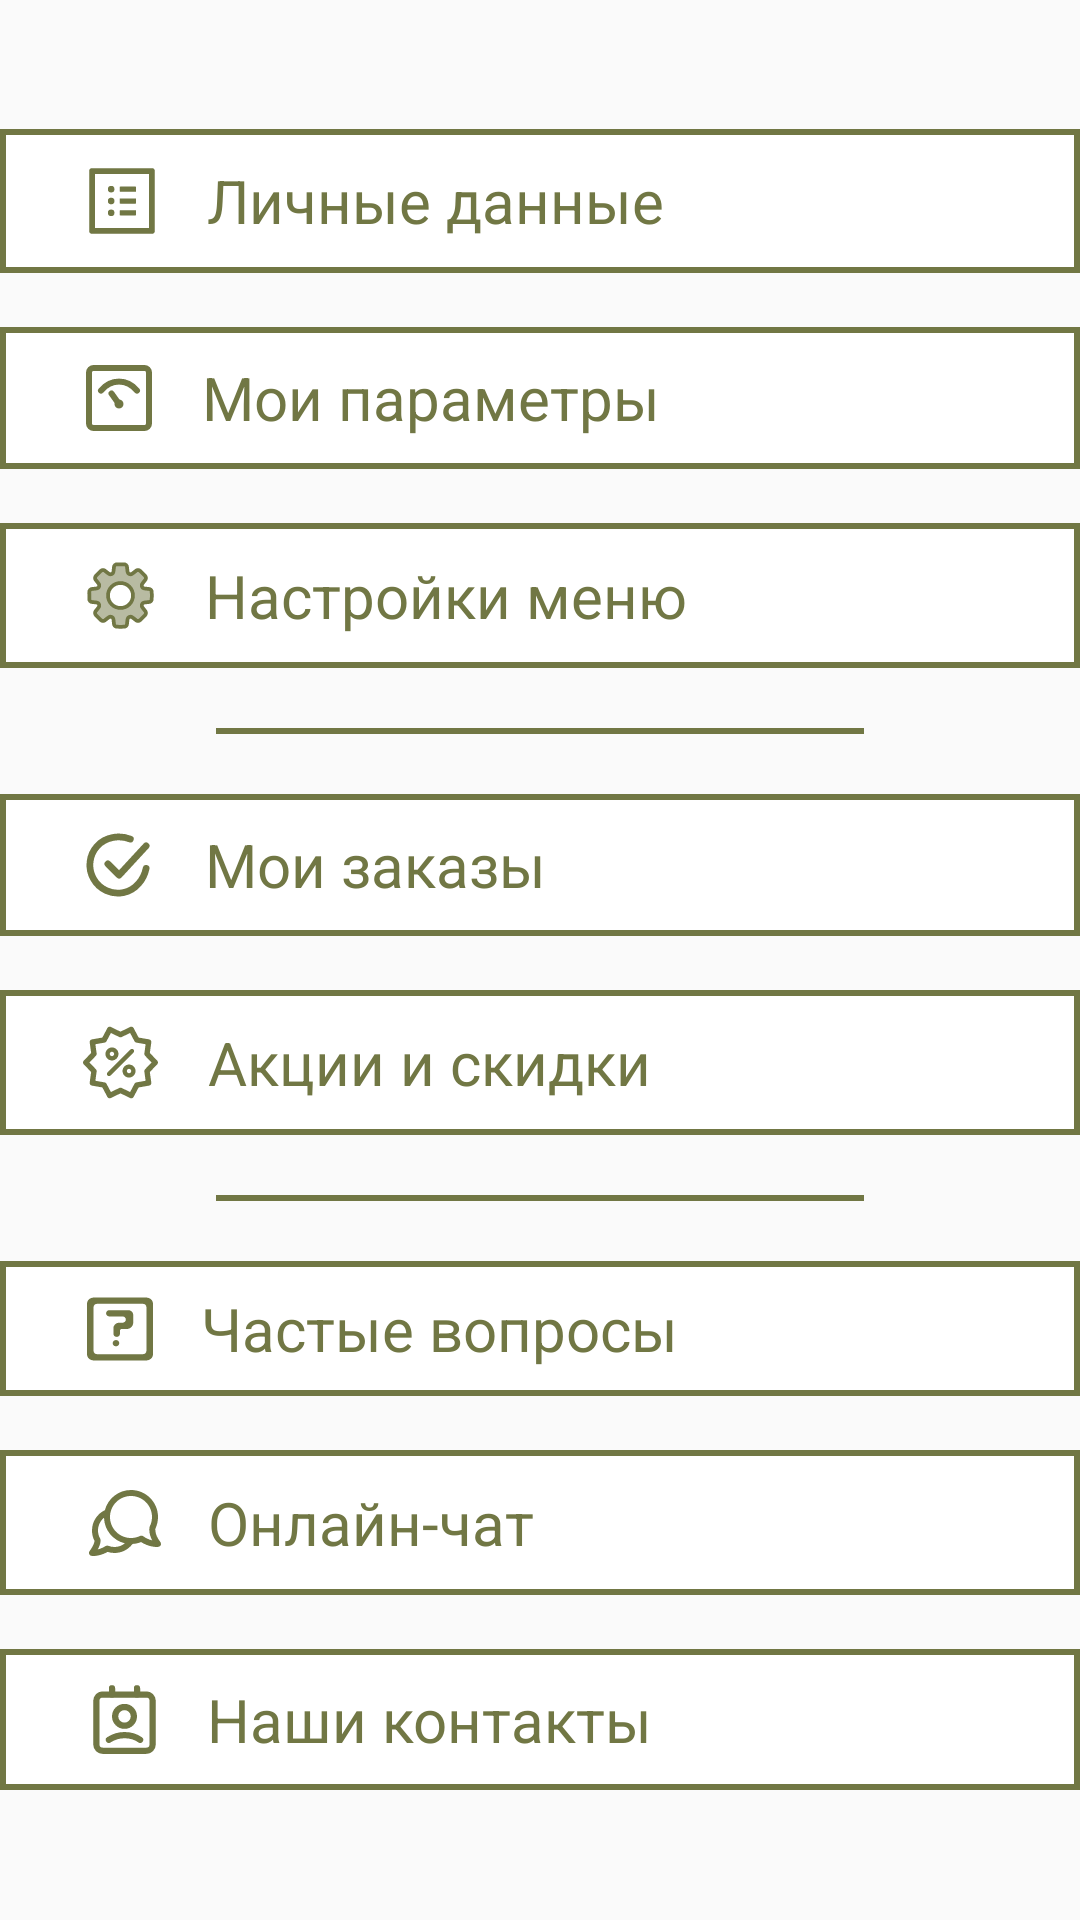

Named icons in this screenshot (1080 x 1920) and their bounding boxes, (x1, y1, x2, y2):
chat: (89, 1490, 161, 1556)
contact: (93, 1685, 156, 1754)
faq: (87, 1297, 153, 1361)
parameters: (86, 365, 152, 431)
promo: (83, 1026, 158, 1099)
settings: (87, 562, 154, 629)
